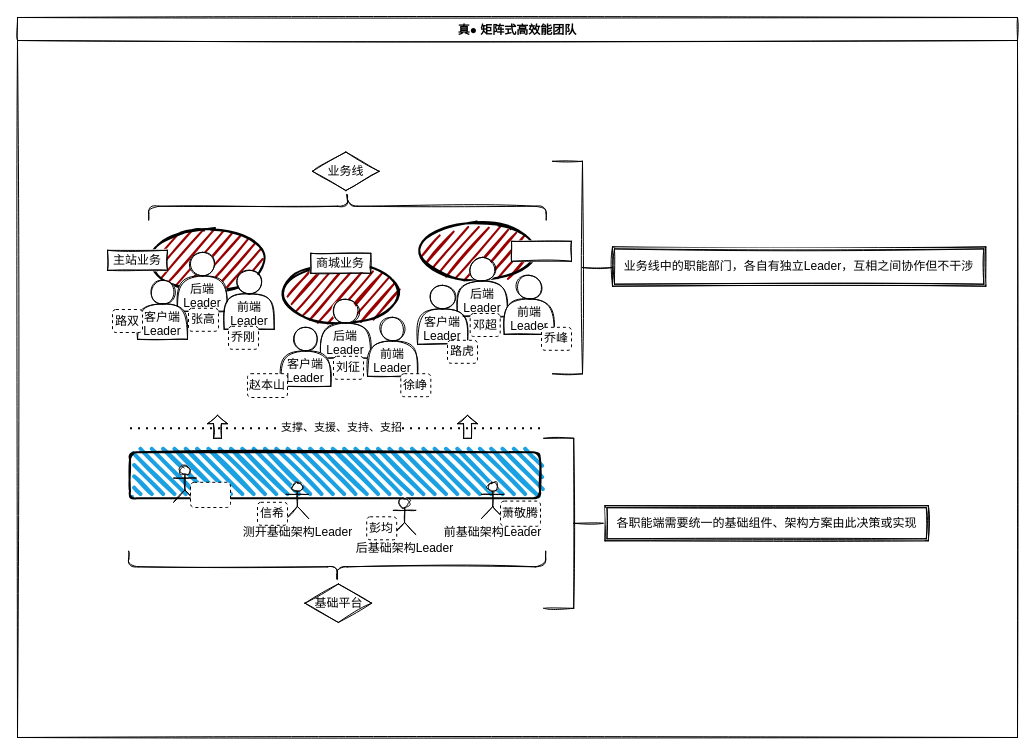
Some shapes in this 1035 by 755 pixel diagram are drawn without their labels. Here are the shapes that lost their labels. From the top down, the centre of each, then its label:
At pixel 541 250: "直播业务".
At pixel 184 483: "客户端础架构Leader".
At pixel 210 494: "华晨宇".
